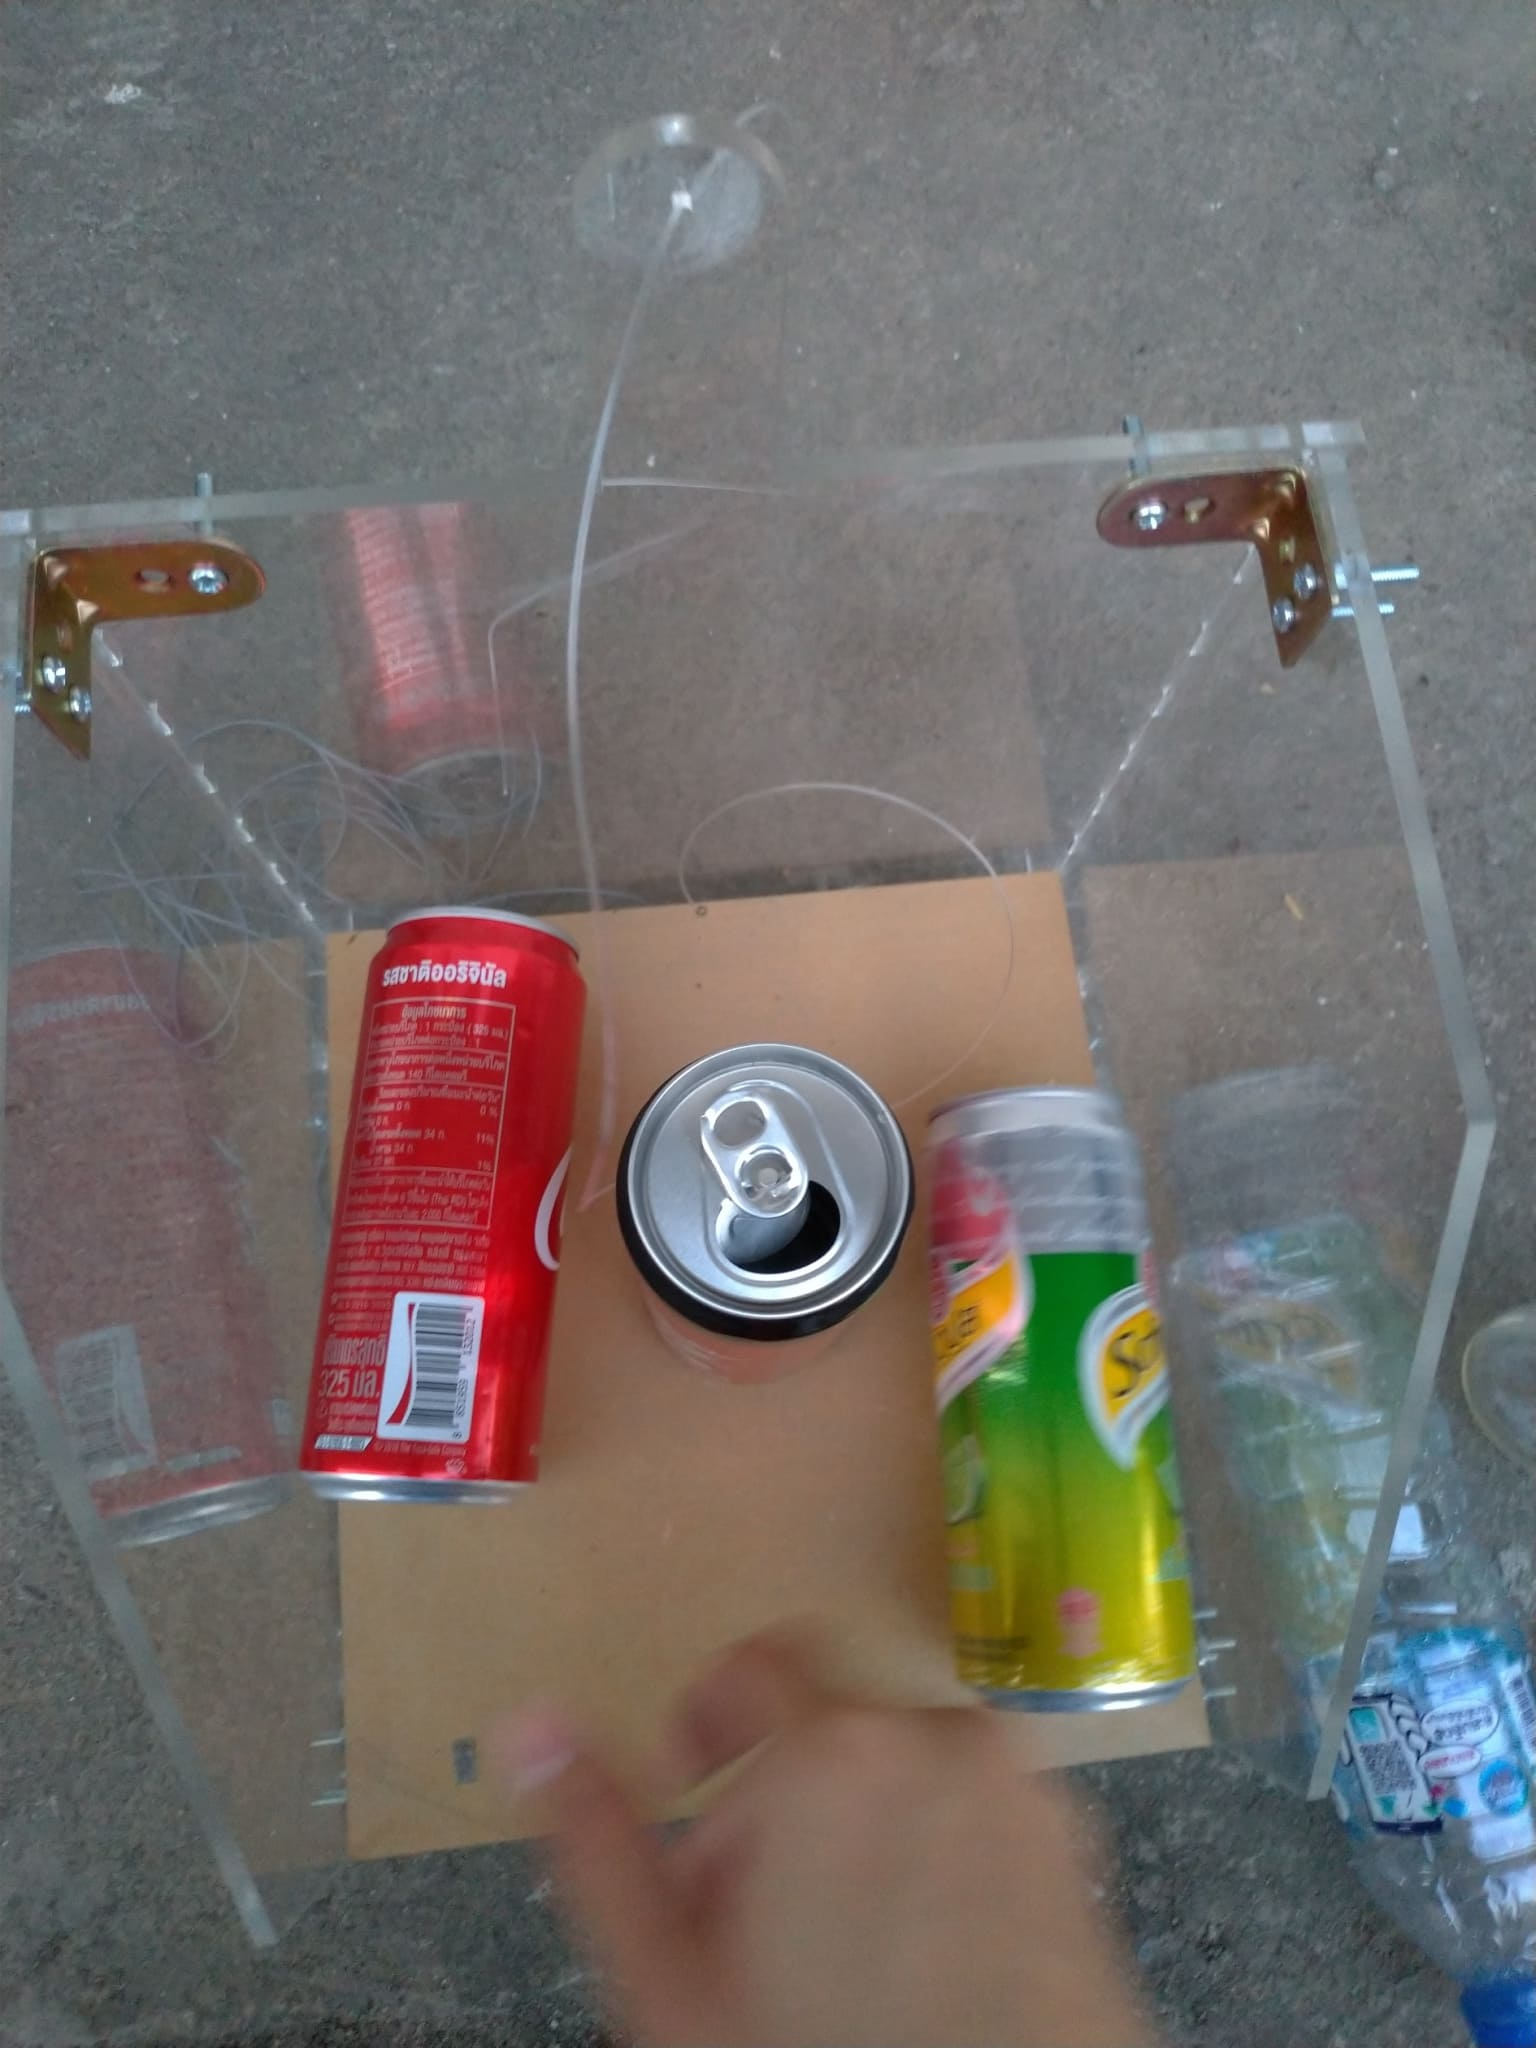AlCan: (303, 908, 587, 1521), (925, 1092, 1191, 1714), (613, 1035, 913, 1395)
PlasticBottle: (1170, 1214, 1533, 2045)
